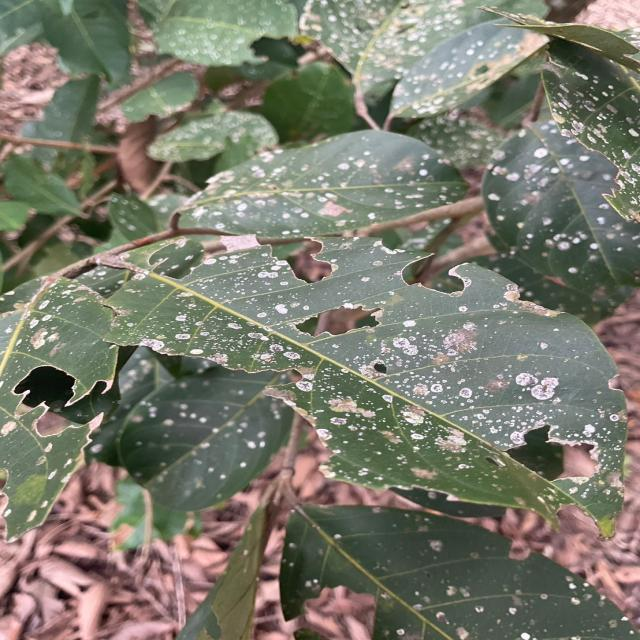Algal Leaf Spot: (113, 253, 620, 478), (318, 2, 628, 152), (191, 145, 434, 248)
